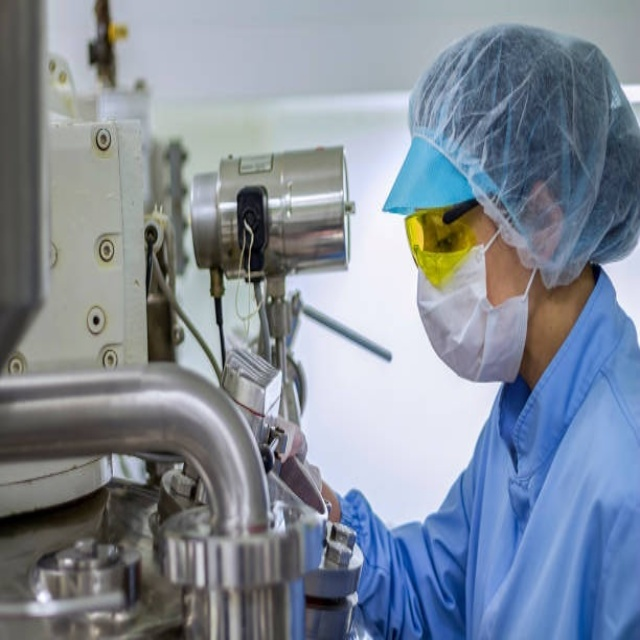Gafas: (405, 201, 487, 288)
Mascara: (417, 212, 534, 382)
